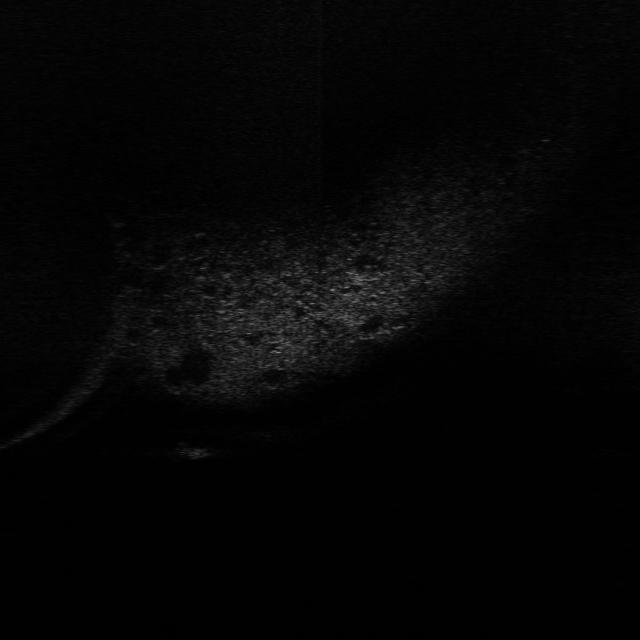cube: (170, 438, 224, 462)
